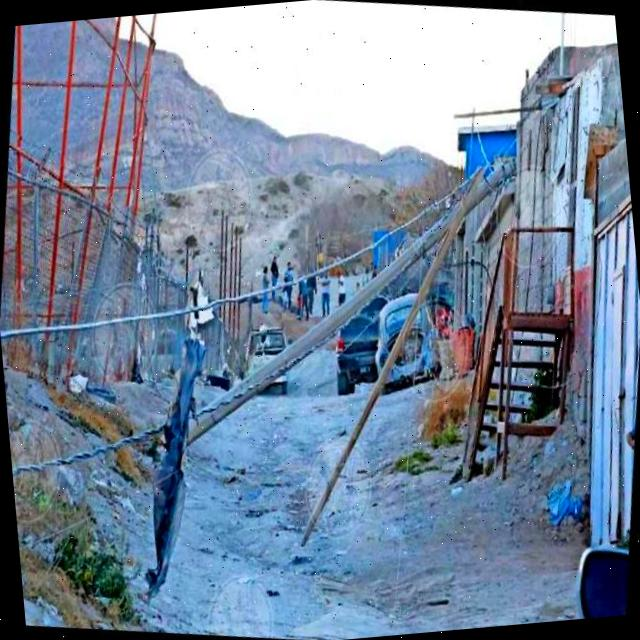Broken Pole: (186, 155, 518, 446)
